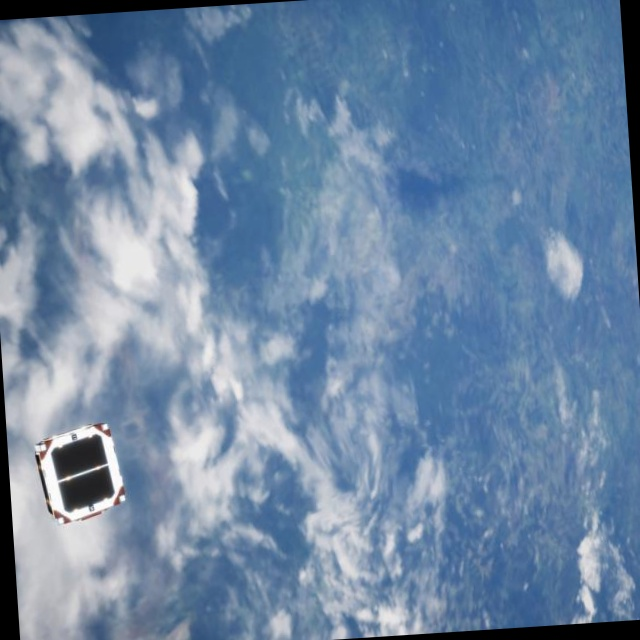satellite: (27, 419, 134, 532)
